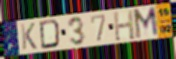3: (66, 15, 86, 47)
7: (89, 13, 107, 43)
D: (38, 18, 62, 51)
H: (112, 9, 136, 43)
K: (19, 22, 38, 51)
M: (132, 6, 160, 41)
